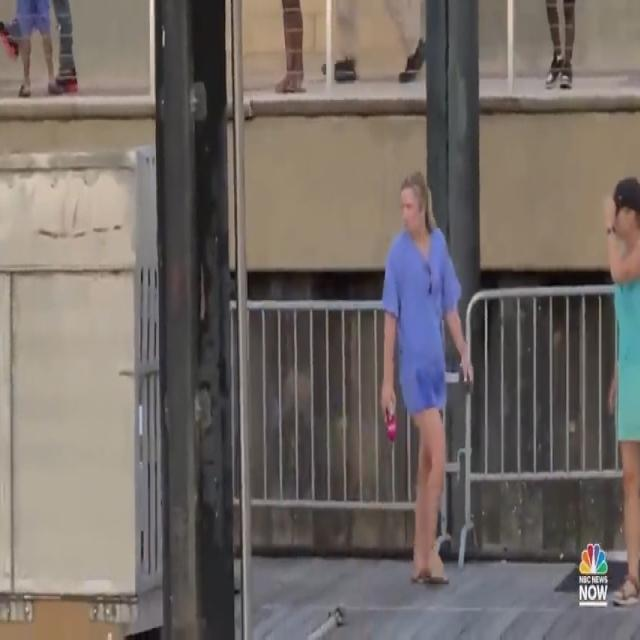non-fight: (379, 164, 474, 596), (602, 164, 640, 608)
